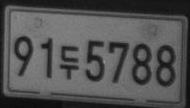1: (38, 36, 59, 78)
5: (84, 39, 105, 82)
7: (108, 41, 129, 83)
8: (155, 43, 176, 87), (131, 42, 152, 85)
9: (12, 34, 33, 77)
두: (60, 44, 80, 80)
